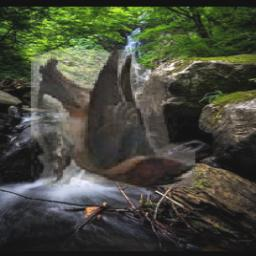Swallow: (32, 50, 197, 187)
